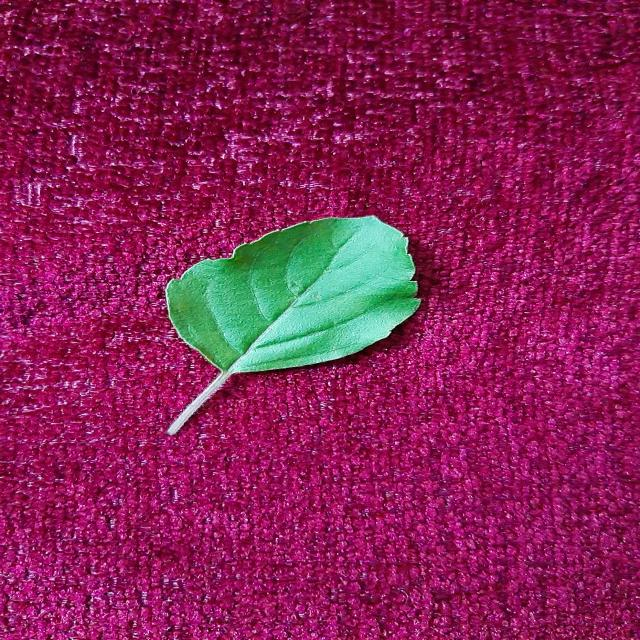tulsi: (165, 216, 420, 435)
